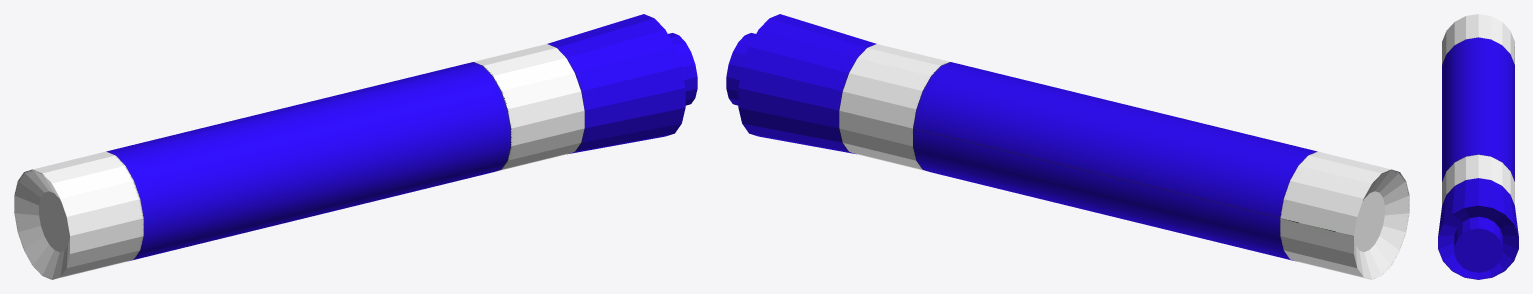
Rendered from blue marker.FBX.
The picture shows the model from 3 angles, left to right: view 1: azimuth 30°, elevation 25°; view 2: azimuth 150°, elevation 25°; view 3: azimuth 270°, elevation 25°; orthographic projection. The views are drawn at different scales.
Parts seen in each view (by area): view 1: Cylinder003; view 2: Cylinder003; view 3: Cylinder003.
Boxes of the visible parts, <box> form: Cylinder003: <box>14,14,697,279</box>; Cylinder003: <box>726,14,1409,279</box>; Cylinder003: <box>1438,14,1518,279</box>.
Size of the model in its own units: 26 by 4.44 by 4.37.
Materials: 1 (1 with a texture image).
